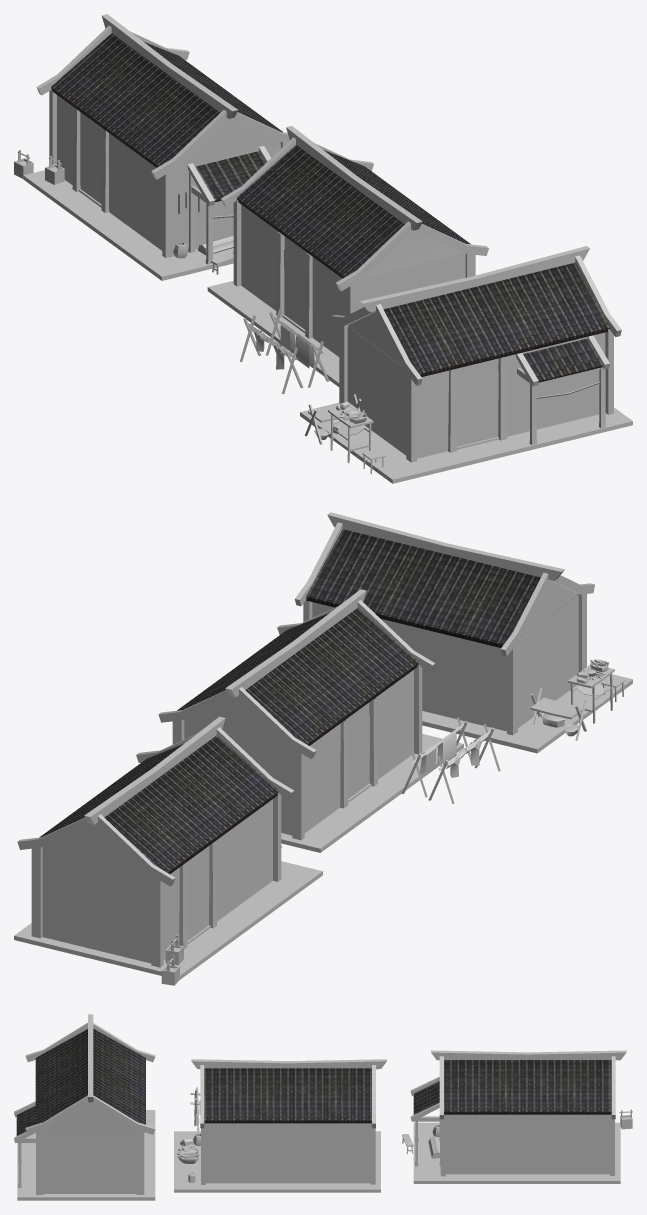
File: s7_unioncity_jianzhu_minju.FBX
3 views of the same model, one above another, from view 1: azimuth 30°, elevation 25°; view 2: azimuth 150°, elevation 25°; view 3: azimuth 270°, elevation 25° (orthographic). The views are drawn at different scales.
Visible parts, largest first — view 1: s7_unioncity_jianzhu_minju_03, s7_unioncity_jianzhu_minju_01, s7_unioncity_jianzhu_minju_02, s7_unioncity_jianzhu_minju_wa_03, s7_unioncity_jianzhu_minju_wa_01, s7_unioncity_jianzhu_minju_wa_02; view 2: s7_unioncity_jianzhu_minju_01, s7_unioncity_jianzhu_minju_02, s7_unioncity_jianzhu_minju_03, s7_unioncity_jianzhu_minju_wa_03, s7_unioncity_jianzhu_minju_wa_02, s7_unioncity_jianzhu_minju_wa_01; view 3: s7_unioncity_jianzhu_minju_01, s7_unioncity_jianzhu_minju_02, s7_unioncity_jianzhu_minju_03, s7_unioncity_jianzhu_minju_wa_01, s7_unioncity_jianzhu_minju_wa_02, s7_unioncity_jianzhu_minju_wa_03.
Part boxes in pixels (left/top/right/bottom): s7_unioncity_jianzhu_minju_03: left=300, top=246, right=632, bottom=483; s7_unioncity_jianzhu_minju_01: left=14, top=14, right=289, bottom=280; s7_unioncity_jianzhu_minju_02: left=207, top=126, right=488, bottom=394; s7_unioncity_jianzhu_minju_wa_03: left=351, top=262, right=610, bottom=382; s7_unioncity_jianzhu_minju_wa_01: left=51, top=33, right=282, bottom=201; s7_unioncity_jianzhu_minju_wa_02: left=236, top=145, right=470, bottom=278; s7_unioncity_jianzhu_minju_01: left=14, top=716, right=322, bottom=985; s7_unioncity_jianzhu_minju_02: left=158, top=589, right=500, bottom=852; s7_unioncity_jianzhu_minju_03: left=295, top=512, right=632, bottom=753; s7_unioncity_jianzhu_minju_wa_03: left=306, top=529, right=573, bottom=647; s7_unioncity_jianzhu_minju_wa_02: left=177, top=608, right=418, bottom=745; s7_unioncity_jianzhu_minju_wa_01: left=39, top=735, right=278, bottom=873; s7_unioncity_jianzhu_minju_01: left=402, top=1050, right=632, bottom=1183; s7_unioncity_jianzhu_minju_02: left=174, top=1059, right=386, bottom=1192; s7_unioncity_jianzhu_minju_03: left=14, top=1014, right=155, bottom=1200; s7_unioncity_jianzhu_minju_wa_01: left=413, top=1060, right=611, bottom=1114; s7_unioncity_jianzhu_minju_wa_02: left=204, top=1068, right=371, bottom=1123; s7_unioncity_jianzhu_minju_wa_03: left=16, top=1028, right=145, bottom=1135.
Bounding box in the file's own units: 19.95 × 10.26 × 54.63.
